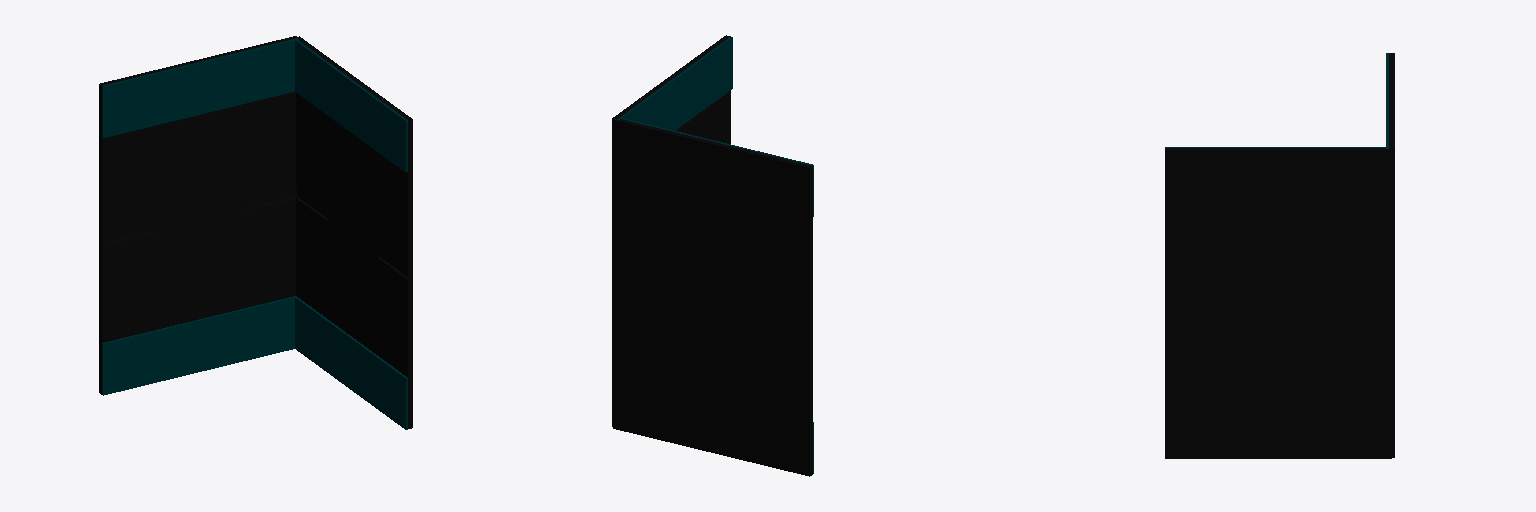
The model's file is SciFiWall5.obj.
The picture shows the model from 3 angles: view 1: azimuth 30°, elevation 25°; view 2: azimuth 150°, elevation 25°; view 3: azimuth 270°, elevation 25°; orthographic projection.
Visible parts, largest first — view 1: Wall.001, Wall, Wall_Panel, Wall_Panel.002, Wall_Panel.003, Wall_Panel.001; view 2: Wall.001, Wall_Panel.001, Wall; view 3: Wall, Wall.001.
Boxes of the visible parts, x1,y1,x2,y2 form: Wall.001: [99, 36, 297, 394]; Wall: [295, 36, 412, 428]; Wall_Panel: [102, 38, 298, 137]; Wall_Panel.002: [102, 296, 296, 395]; Wall_Panel.003: [295, 297, 407, 429]; Wall_Panel.001: [295, 40, 407, 172]; Wall.001: [613, 119, 812, 476]; Wall_Panel.001: [617, 37, 732, 130]; Wall: [612, 35, 730, 426]; Wall: [1165, 148, 1391, 458]; Wall.001: [1389, 53, 1394, 457].
Bounding box in the file's own units: 4.05 × 6 × 4.05.